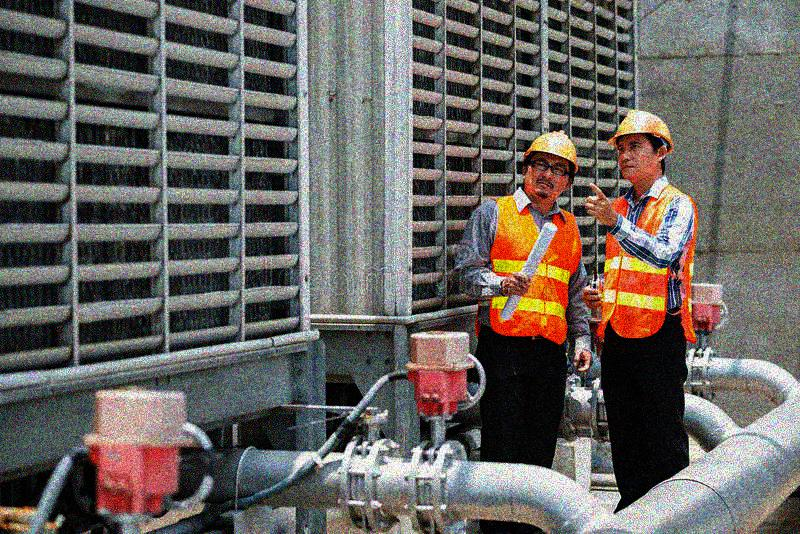helmet: (607, 109, 674, 181), (521, 131, 579, 201)
